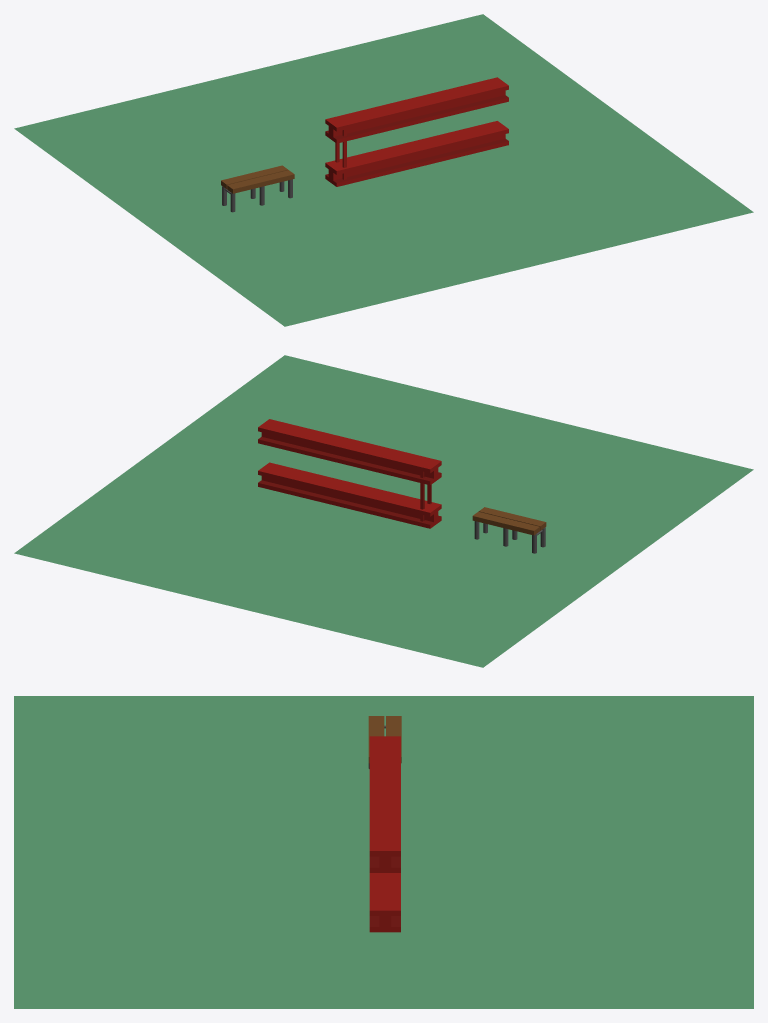
File: constraction_props.fbx
3 renders of one model, top to bottom at view 1: azimuth 30°, elevation 25°; view 2: azimuth 150°, elevation 25°; view 3: azimuth 270°, elevation 25°, orthographic. The views are drawn at different scales.
Visible parts, largest first — view 1: floor, Plane1, Plane, top; view 2: floor, Plane1, Plane, top; view 3: floor, Plane1, Plane, top.
Boxes of the visible parts, left/top/right/bottom form: floor: left=14, top=14, right=753, bottom=326; Plane1: left=325, top=77, right=508, bottom=143; Plane: left=325, top=121, right=508, bottom=186; top: left=221, top=165, right=294, bottom=193; floor: left=14, top=355, right=753, bottom=667; Plane1: left=258, top=419, right=441, bottom=485; Plane: left=258, top=462, right=441, bottom=528; top: left=472, top=507, right=546, bottom=535; floor: left=14, top=696, right=753, bottom=1008; Plane1: left=369, top=736, right=400, bottom=872; Plane: left=369, top=873, right=400, bottom=932; top: left=368, top=716, right=401, bottom=763.
Size of the model in its own units: 6146 by 807 by 6146.
